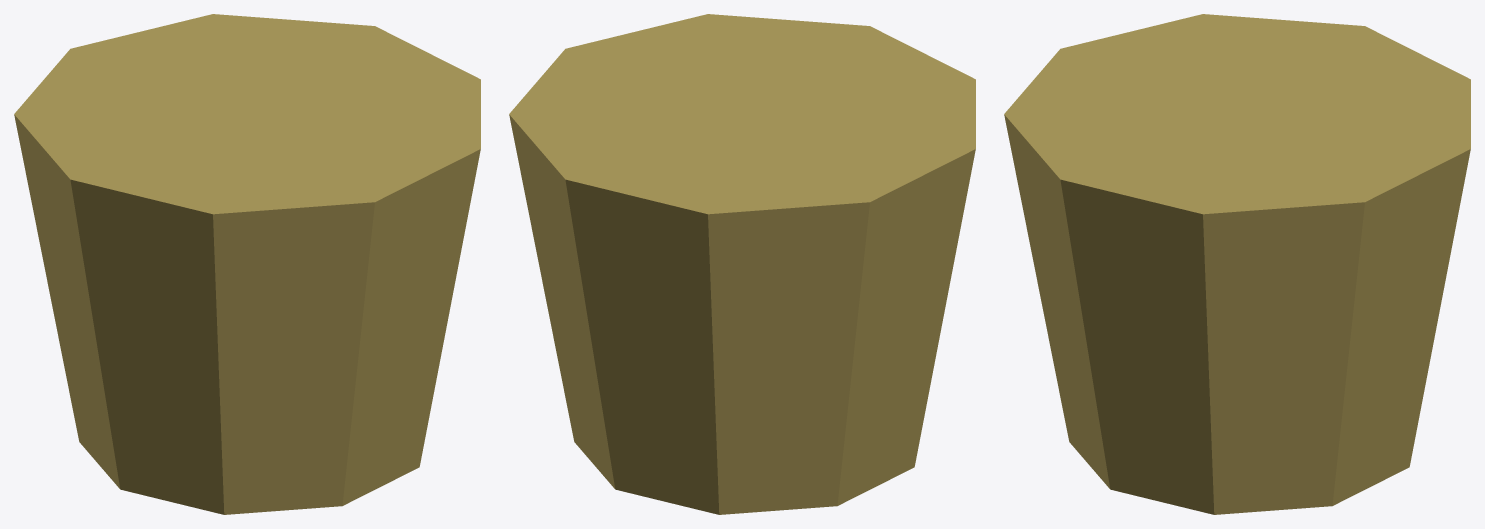
The model's file is bottle_Cap.fbx.
The picture shows the model from 3 angles, left to right: view 1: azimuth 30°, elevation 25°; view 2: azimuth 150°, elevation 25°; view 3: azimuth 270°, elevation 25°; orthographic projection.
Visible parts, largest first — view 1: cap_3; view 2: cap_3; view 3: cap_3.
Boxes of the visible parts, left/top/right/bottom form: cap_3: left=14, top=14, right=480, bottom=514; cap_3: left=509, top=14, right=975, bottom=514; cap_3: left=1004, top=14, right=1470, bottom=514.
Size of the model in its own units: 0.0976 by 0.0745 by 0.0961.
